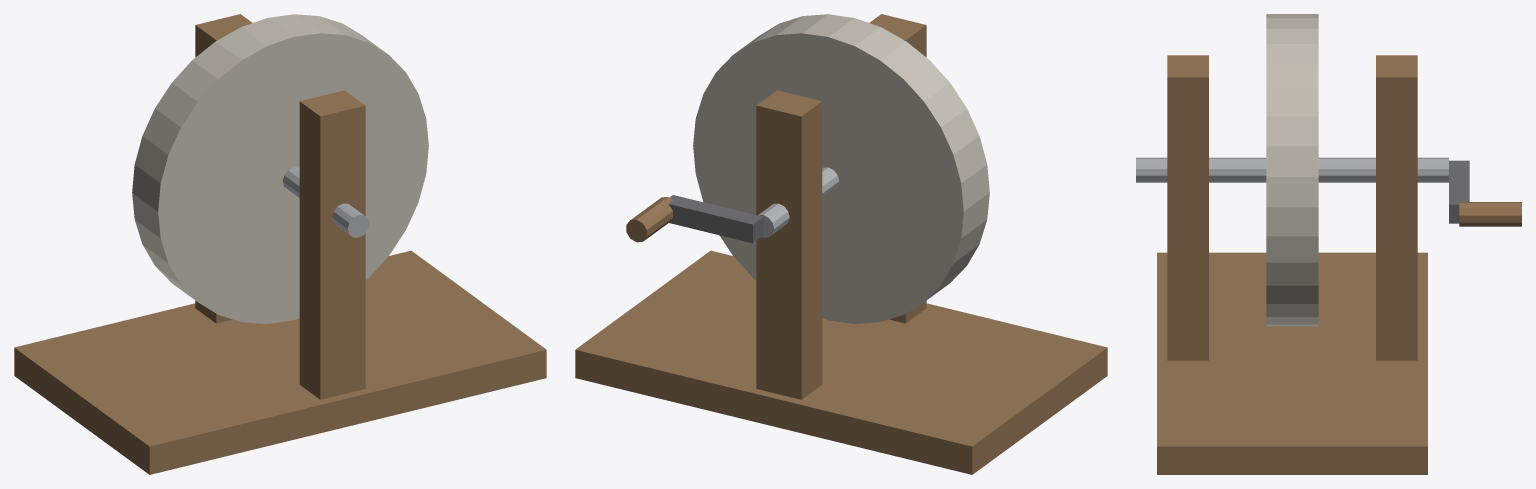
Rendered from grinder.fbx.
3 renders of one model, left to right at view 1: azimuth 30°, elevation 25°; view 2: azimuth 150°, elevation 25°; view 3: azimuth 270°, elevation 25°, orthographic.
Parts seen in each view (by area): view 1: grinder; view 2: grinder; view 3: grinder.
Part boxes in pixels (x1,y1,x2,y2): grinder: (14,14,546,474); grinder: (575,14,1107,474); grinder: (1136,14,1521,474).
Bounding box in the file's own units: 0.44 × 0.37 × 0.37.
